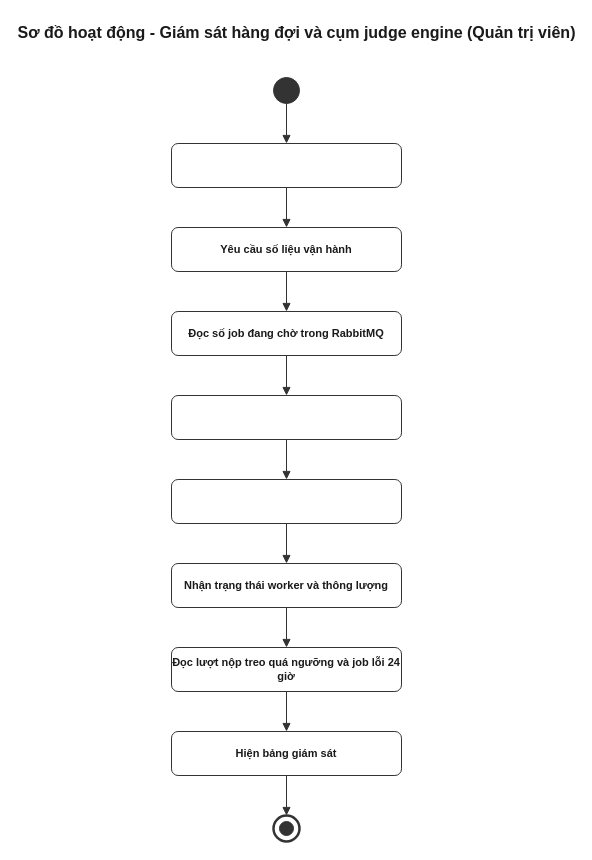
This 592x860 diagram has some shape labels left out. The shapes that lost their labels are listed below. From the top down, each one's centre as x and y in pixels, then its label:
pixel 286 165: Mở màn giám sát
pixel 286 417: Nhận độ dài hàng đợi
pixel 286 501: Kiểm tra tình trạng cụm go-judge
